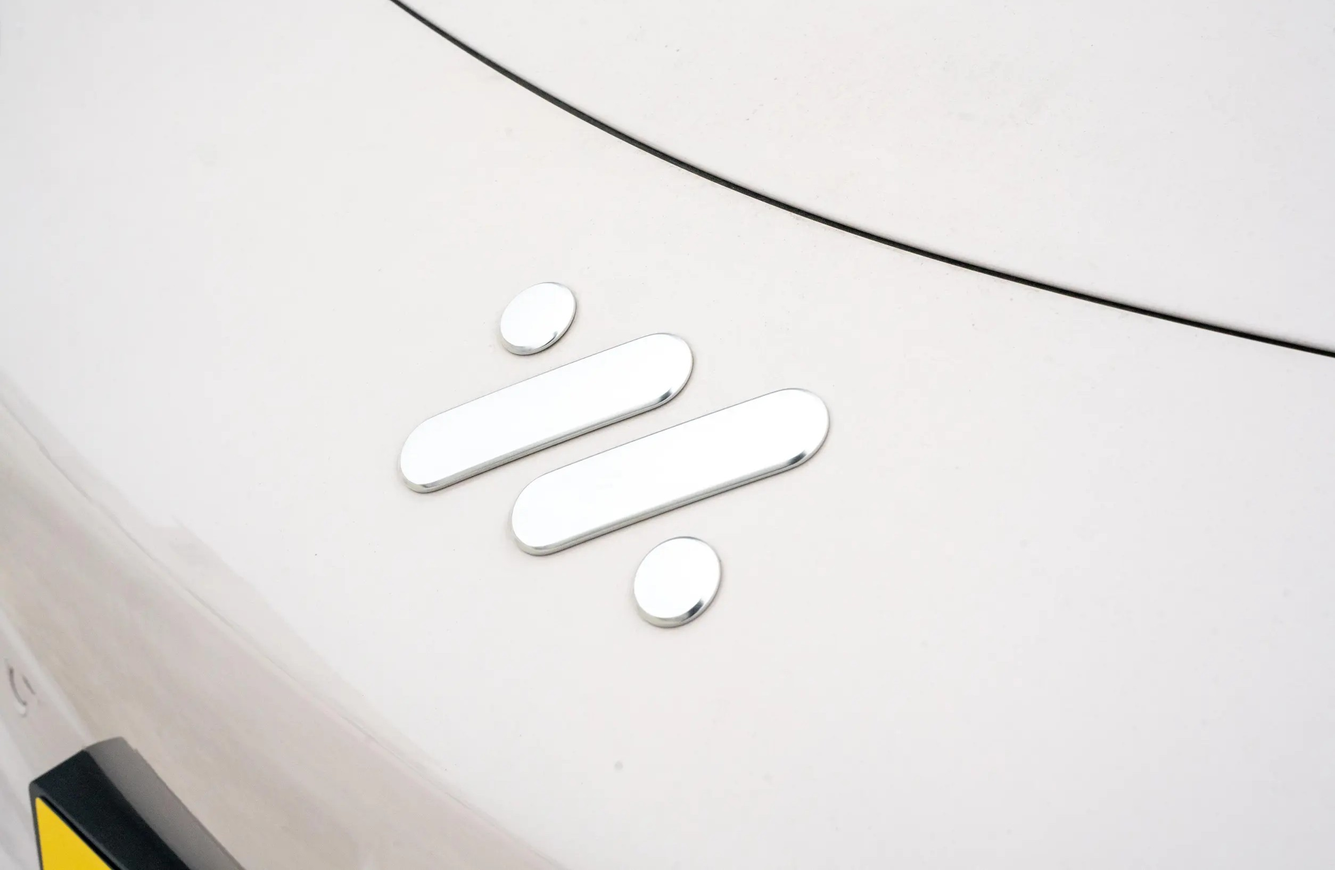IM: (400, 283, 828, 626)
